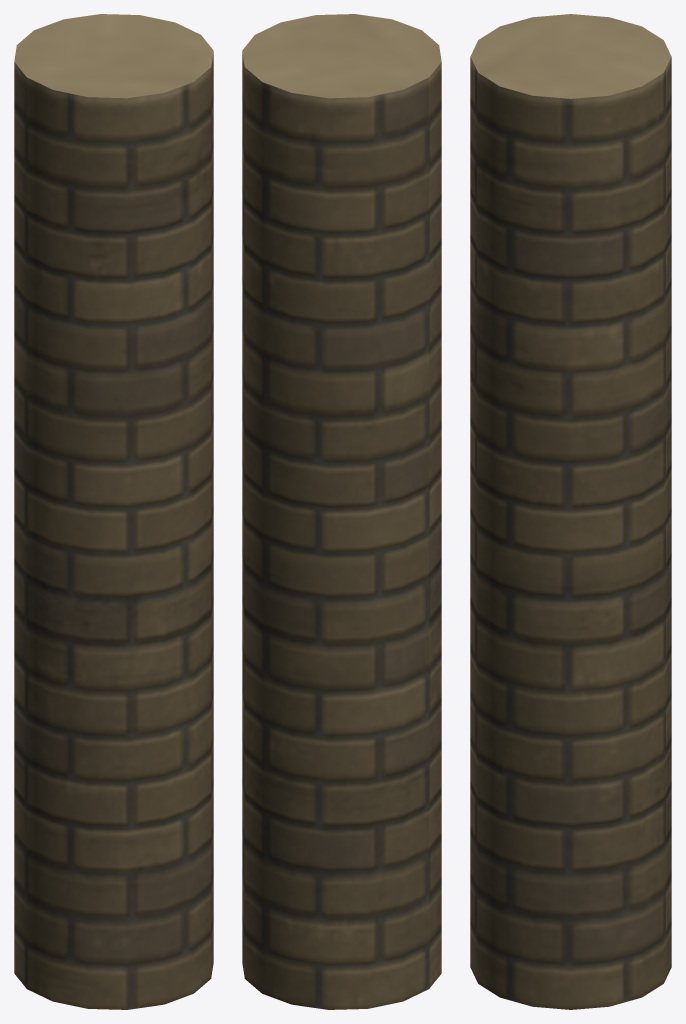
Rendered from column6_1.fbx.
The picture shows the model from 3 angles, left to right: view 1: azimuth 30°, elevation 25°; view 2: azimuth 150°, elevation 25°; view 3: azimuth 270°, elevation 25°; orthographic projection.
Parts seen in each view (by area): view 1: column6_a; view 2: column6_a; view 3: column6_a.
Part boxes in pixels (bbox=[...]): column6_a: bbox=[14, 14, 213, 1009]; column6_a: bbox=[242, 14, 441, 1009]; column6_a: bbox=[470, 14, 671, 1009].
Bounding box in the file's own units: 80 × 400 × 80.
